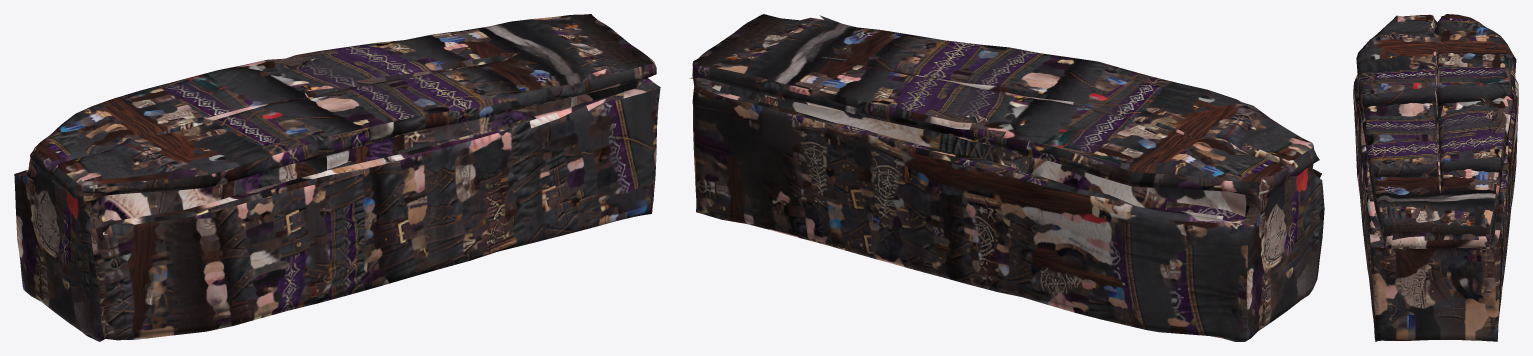
3 views of the same model, side by side, from view 1: azimuth 30°, elevation 25°; view 2: azimuth 150°, elevation 25°; view 3: azimuth 270°, elevation 25° (orthographic). The views are drawn at different scales.
Visible parts, largest first — view 1: tripo_node_24e05aab; view 2: tripo_node_24e05aab; view 3: tripo_node_24e05aab.
Boxes of the visible parts, bbox=[...] form: tripo_node_24e05aab: bbox=[14, 14, 660, 341]; tripo_node_24e05aab: bbox=[689, 14, 1324, 341]; tripo_node_24e05aab: bbox=[1353, 14, 1518, 341].
Size of the model in its own units: 0.9984 by 0.2758 by 0.3244.
